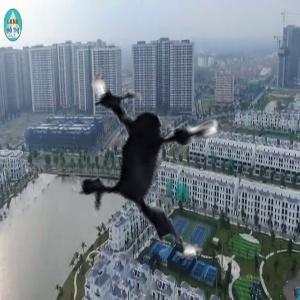drone: (41, 39, 280, 278)
